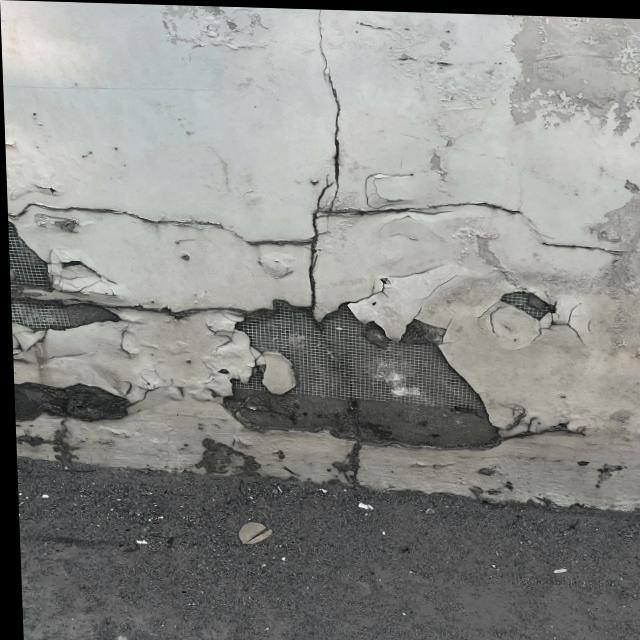crack: (291, 14, 356, 293), (9, 195, 309, 251), (343, 202, 617, 247)
spalling: (226, 294, 506, 476), (13, 244, 221, 359), (15, 374, 153, 439), (491, 280, 589, 356)
